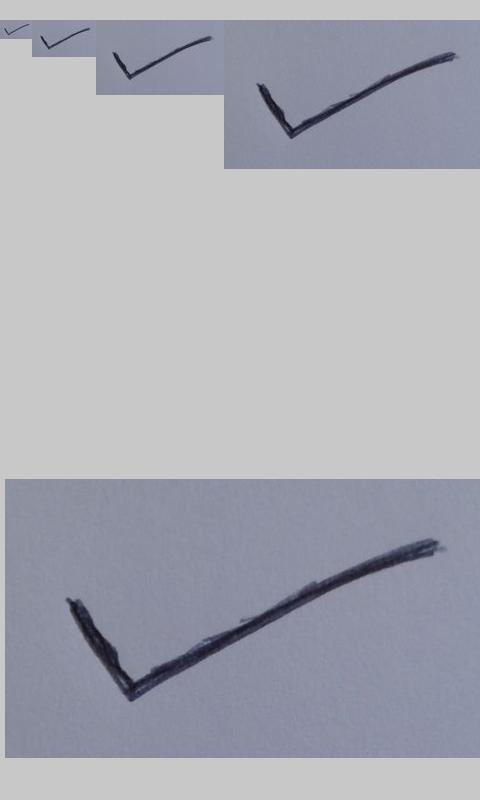check_box: (68, 537, 444, 706), (258, 51, 452, 140), (112, 36, 211, 80), (41, 27, 90, 50), (4, 24, 29, 35)
